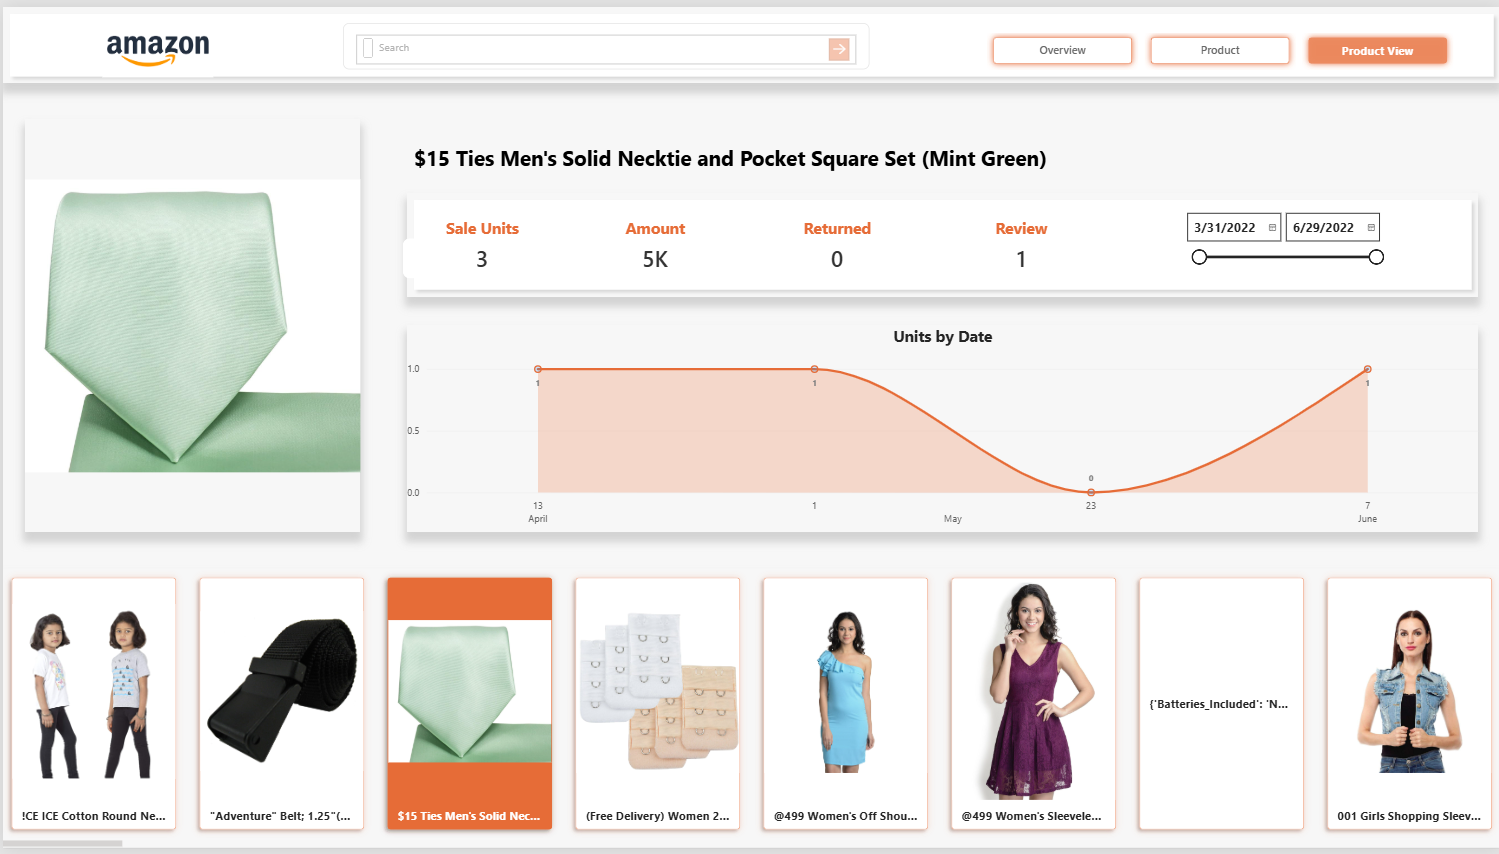

Layout of this report page (visuals, bound fields, positions):
{"tool":"powerbi","page":{"name":"Product View","canvas":[1920,1080],"ordinal":2},"visuals":[{"type":"shape","box":[0,0,1920,97.9],"z":0},{"type":"shape","box":[518.7,238.1,1373.7,132.8],"z":1000},{"type":"image","box":[0,9.1,396.8,79.8],"z":2000},{"type":"pageNavigator","box":[1261,29.6,600,50],"z":3000},{"type":"textSlicer","fields":{"Values":["amazon-fashion - YT.Category"]},"box":[435.5,20.5,675,59.3],"z":4000},{"type":"advancedSlicerVisual","fields":{"Values":["amazon-fashion - YT.product_name"]},"box":[0,721.2,1920,358.2],"z":5000},{"type":"image","box":[28.7,143.3,429.9,530.1],"z":6000},{"type":"shape","box":[518.9,142.9,1373.6,97.8],"z":7000},{"type":"cardVisual","title":"Amount","fields":{"Data":["Amazon.Sale_Amount"]},"box":[720.3,268.2,231.4,79.1],"z":9000},{"type":"areaChart","title":"Units by Date","fields":{"Category":["Amazon.Date.Variation.Date Hierarchy.Month","Amazon.Date.Variation.Date Hierarchy.Day"],"Y":["Amazon.Sale_Units"]},"box":[518.9,408.6,1373.6,265.7],"z":10000},{"type":"cardVisual","title":"Returned","fields":{"Data":["Amazon.Sale_Amount"]},"box":[954.8,268.2,231.4,79.1],"z":11000},{"type":"cardVisual","title":"Sale Units","fields":{"Data":["Amazon.Sale_Units"]},"box":[513.8,268.2,203.4,79.1],"z":12000},{"type":"cardVisual","title":"Review","fields":{"Data":["Amazon.Review"]},"box":[1189.4,268.2,231.4,79.1],"z":13000},{"type":"slicer","fields":{"Values":["Amazon.Date"]},"box":[1509.6,258.6,266.5,88.7],"z":14000}]}

Visuals, with their boxes in screenshot pixels (x1, y1, x2, y2), scaled from the page's 1920x1080 canvas onto the 1499x854 screenshot:
shape: <region>0, 0, 1498, 77</region>
shape: <region>405, 188, 1477, 293</region>
image: <region>0, 7, 310, 70</region>
pageNavigator: <region>984, 23, 1453, 63</region>
textSlicer - amazon-fashion - YT.Category: <region>340, 16, 867, 63</region>
advancedSlicerVisual - amazon-fashion - YT.product_name: <region>0, 570, 1498, 853</region>
image: <region>22, 113, 358, 532</region>
shape: <region>405, 113, 1478, 190</region>
"Amount" cardVisual: <region>562, 212, 743, 275</region>
"Units by Date" areaChart: <region>405, 323, 1478, 533</region>
"Returned" cardVisual: <region>745, 212, 926, 275</region>
"Sale Units" cardVisual: <region>401, 212, 560, 275</region>
"Review" cardVisual: <region>929, 212, 1109, 275</region>
slicer - Amazon.Date: <region>1179, 204, 1387, 275</region>
